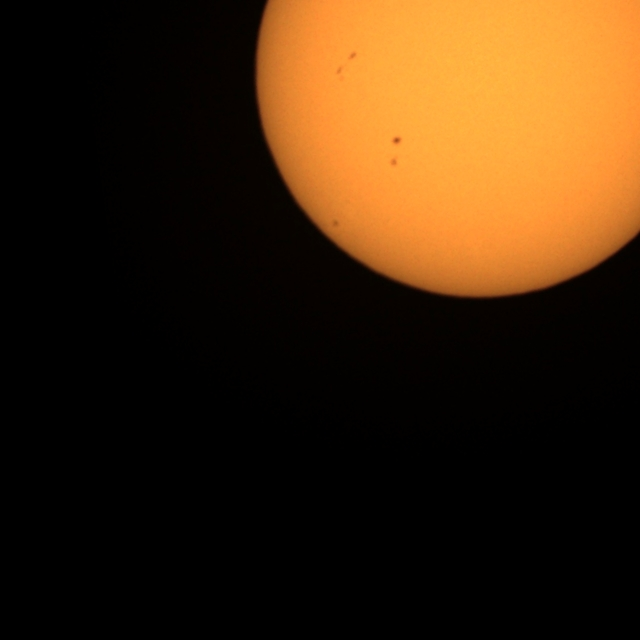sunspot: (334, 50, 358, 77), (347, 50, 359, 62), (330, 218, 341, 231), (390, 135, 403, 146), (388, 157, 400, 168), (335, 66, 343, 78)
